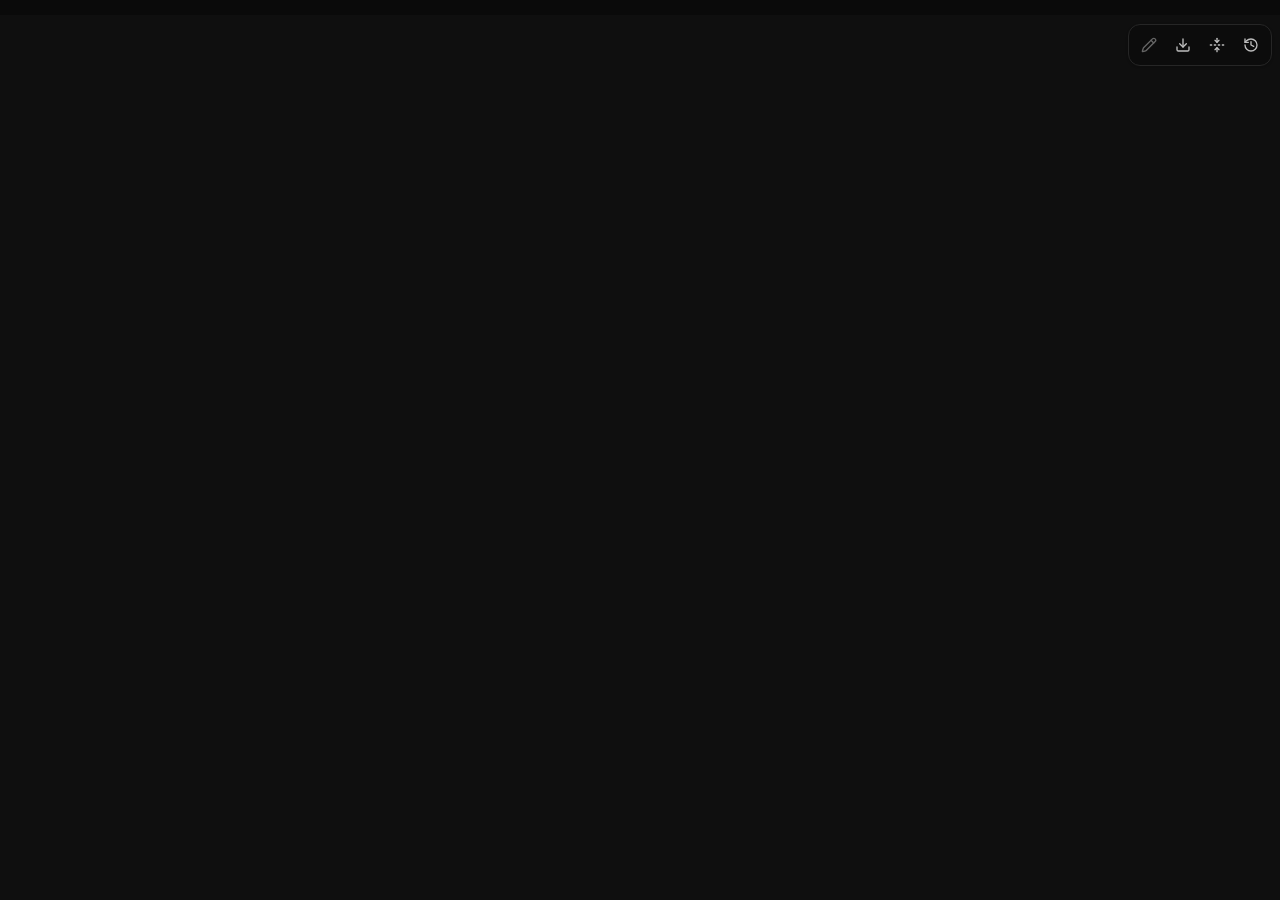
Test: Summarise earlier messages now › says there is nothing to summarise yet before asking for instructions (#153)
Click the button named "Summarise earlier messages now" at [1217, 45], box [1201,29,1233,61]
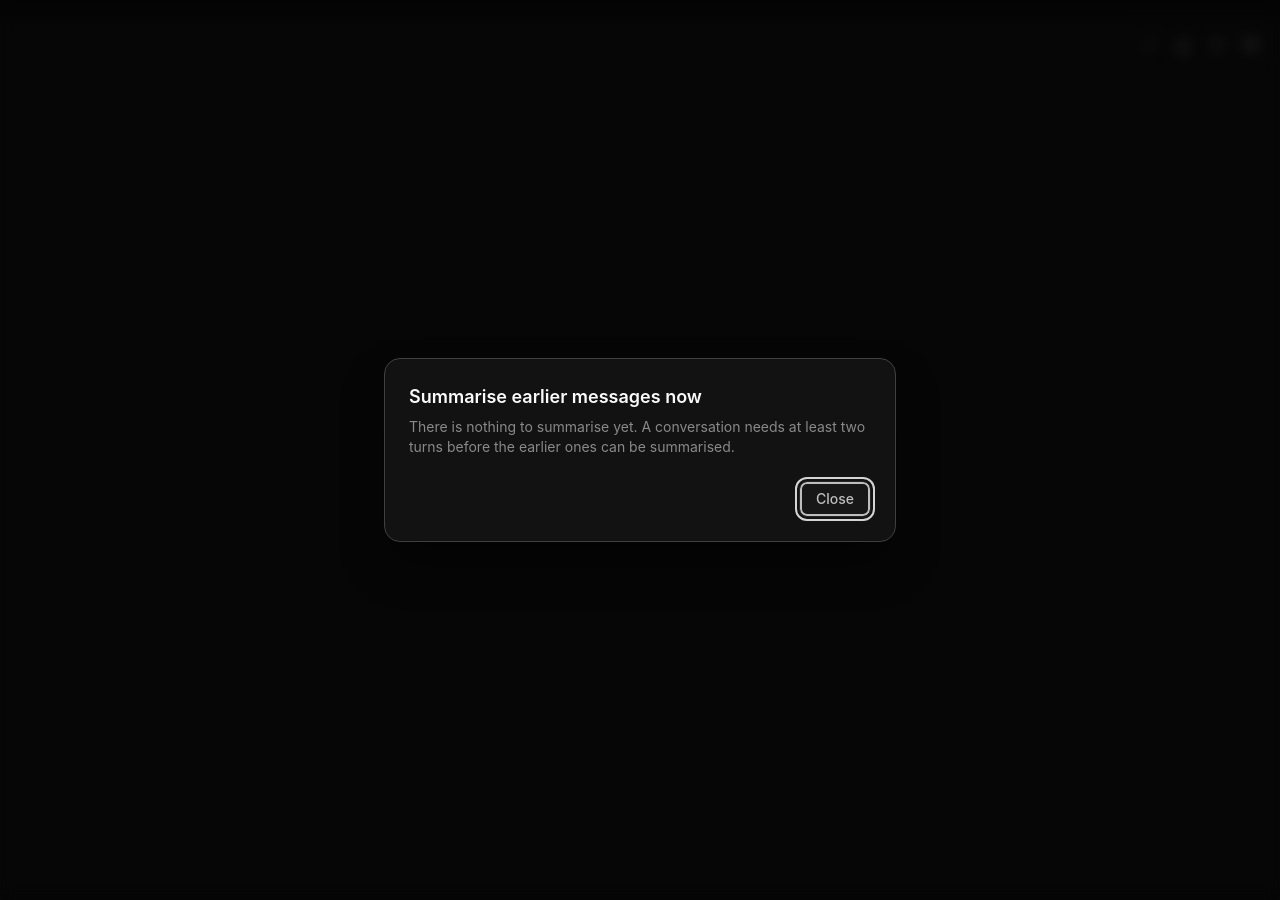
Expected: the heading "Summarise earlier messages now" is shown, [409,386,702,407]
Expected: the dialog shows "There is nothing to summarise yet. A conversation needs at least two turns", [409,418,865,455]
Click the button "Close" at [835, 499], box [799,481,871,517]
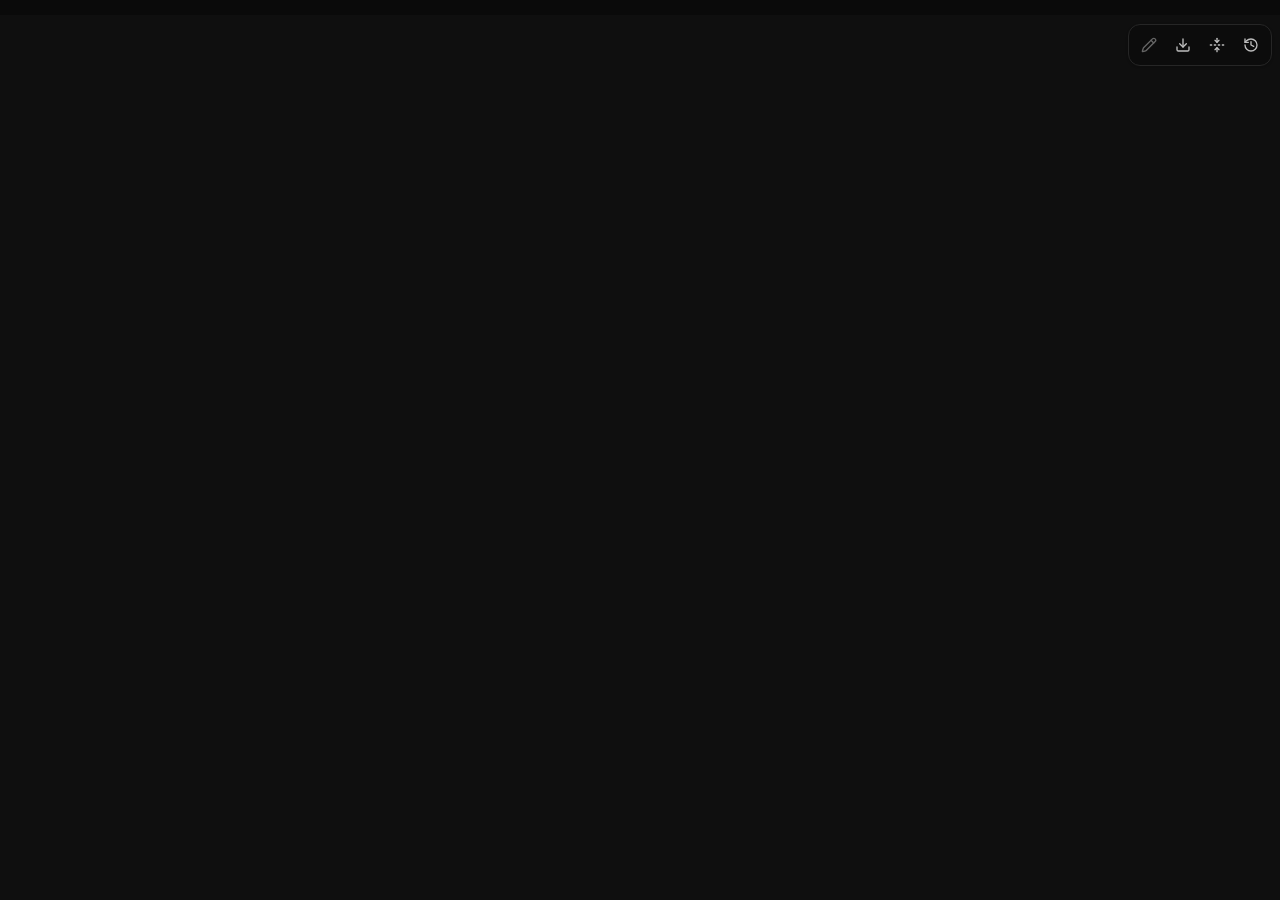
Expected: the dialog is gone
Click the button named "Summarise earlier messages now" at [1217, 45], box [1201,29,1233,61]
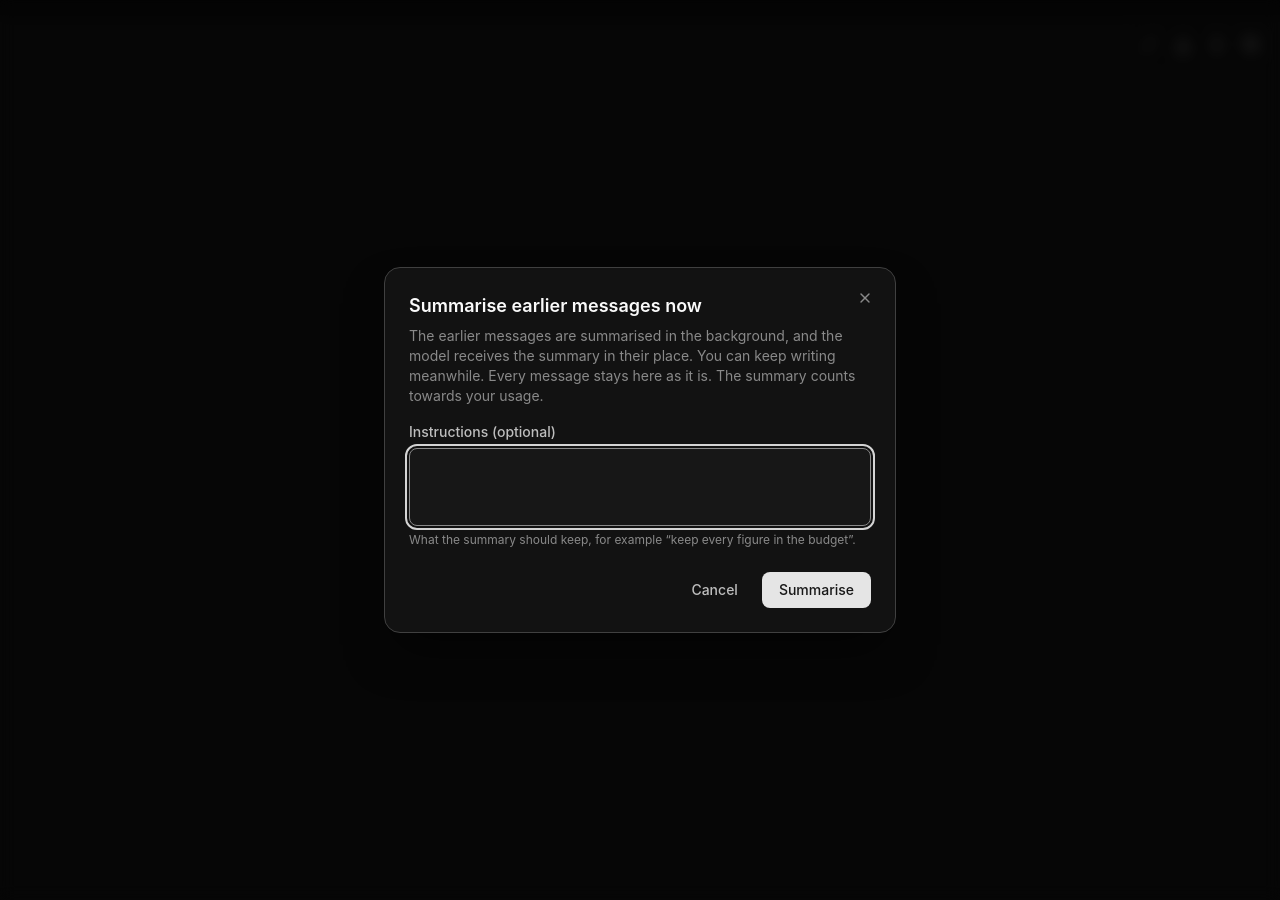
Expected: the text box labelled "Instructions (optional)" is shown, [409,448,871,526]
